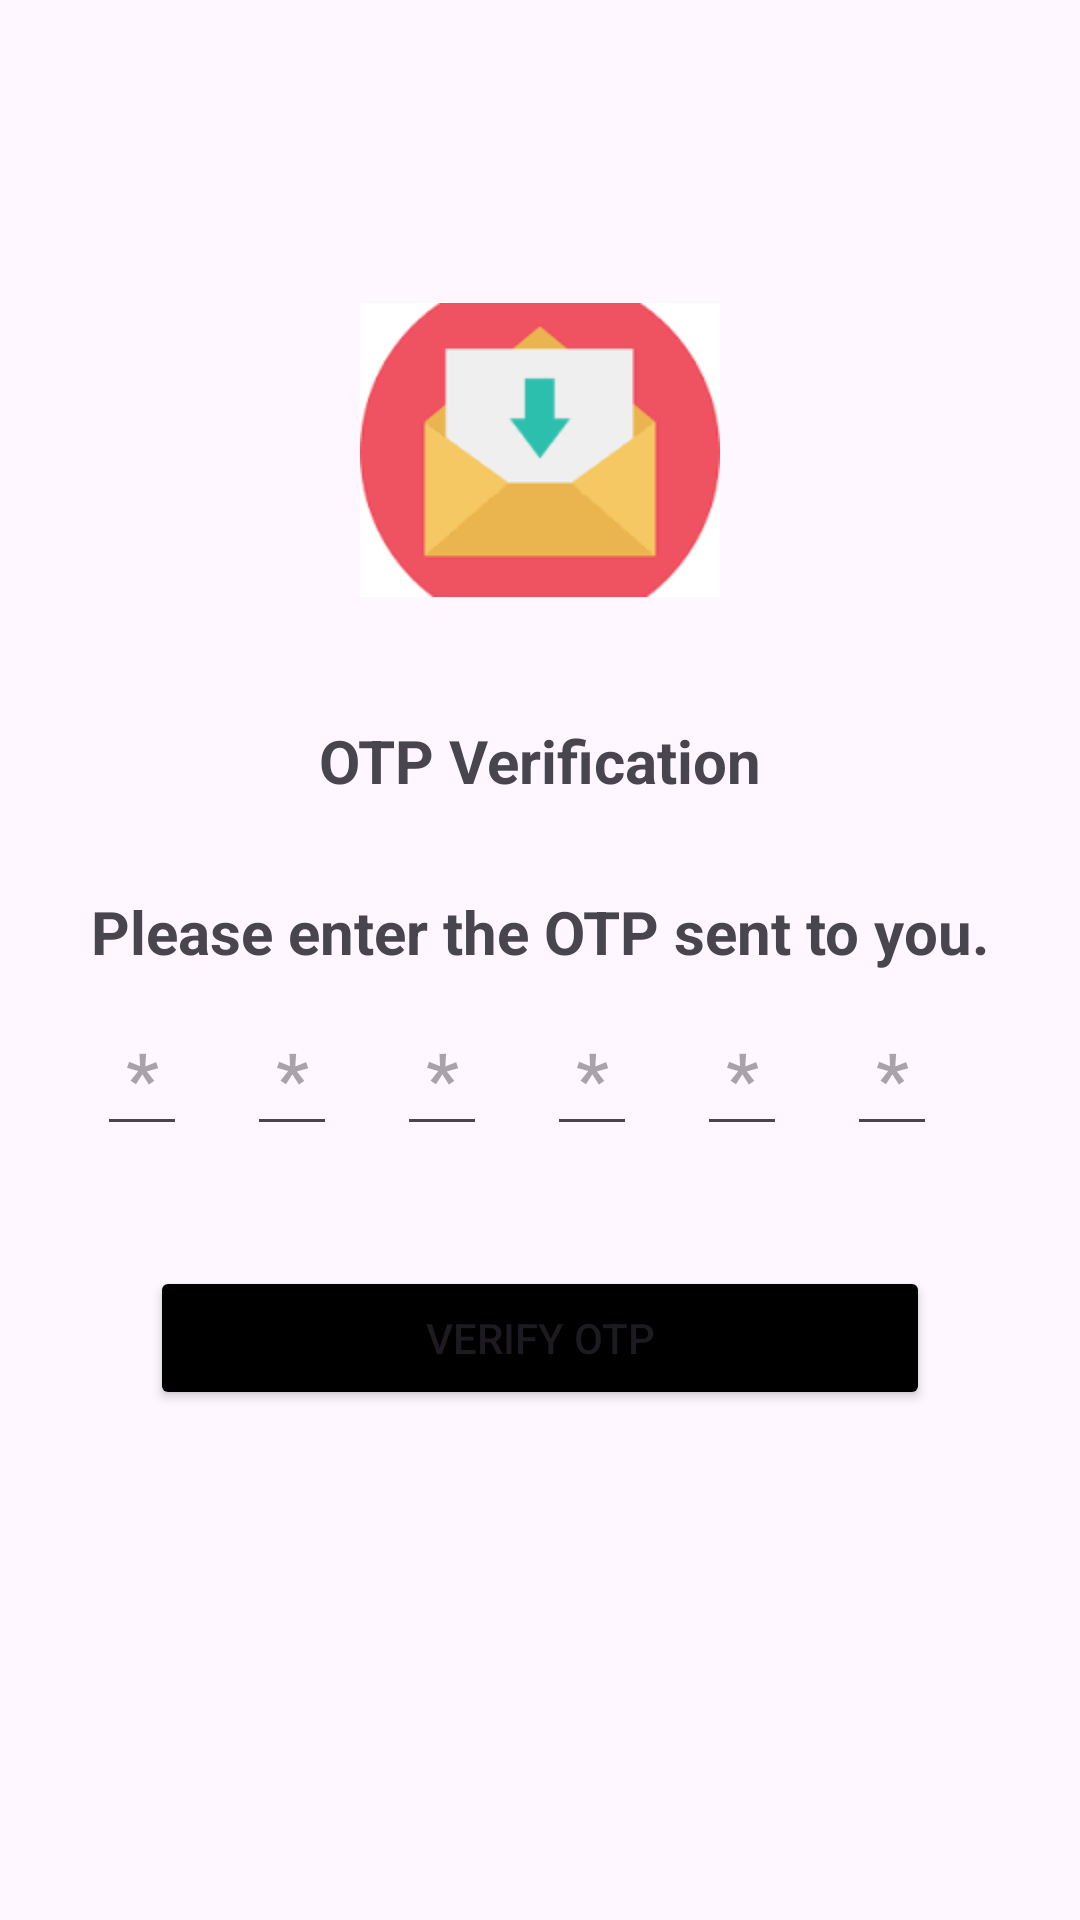

Icon click points for this 1080 × 1920 phone screenshot, format (x,y):
receivemail: (540,450)
